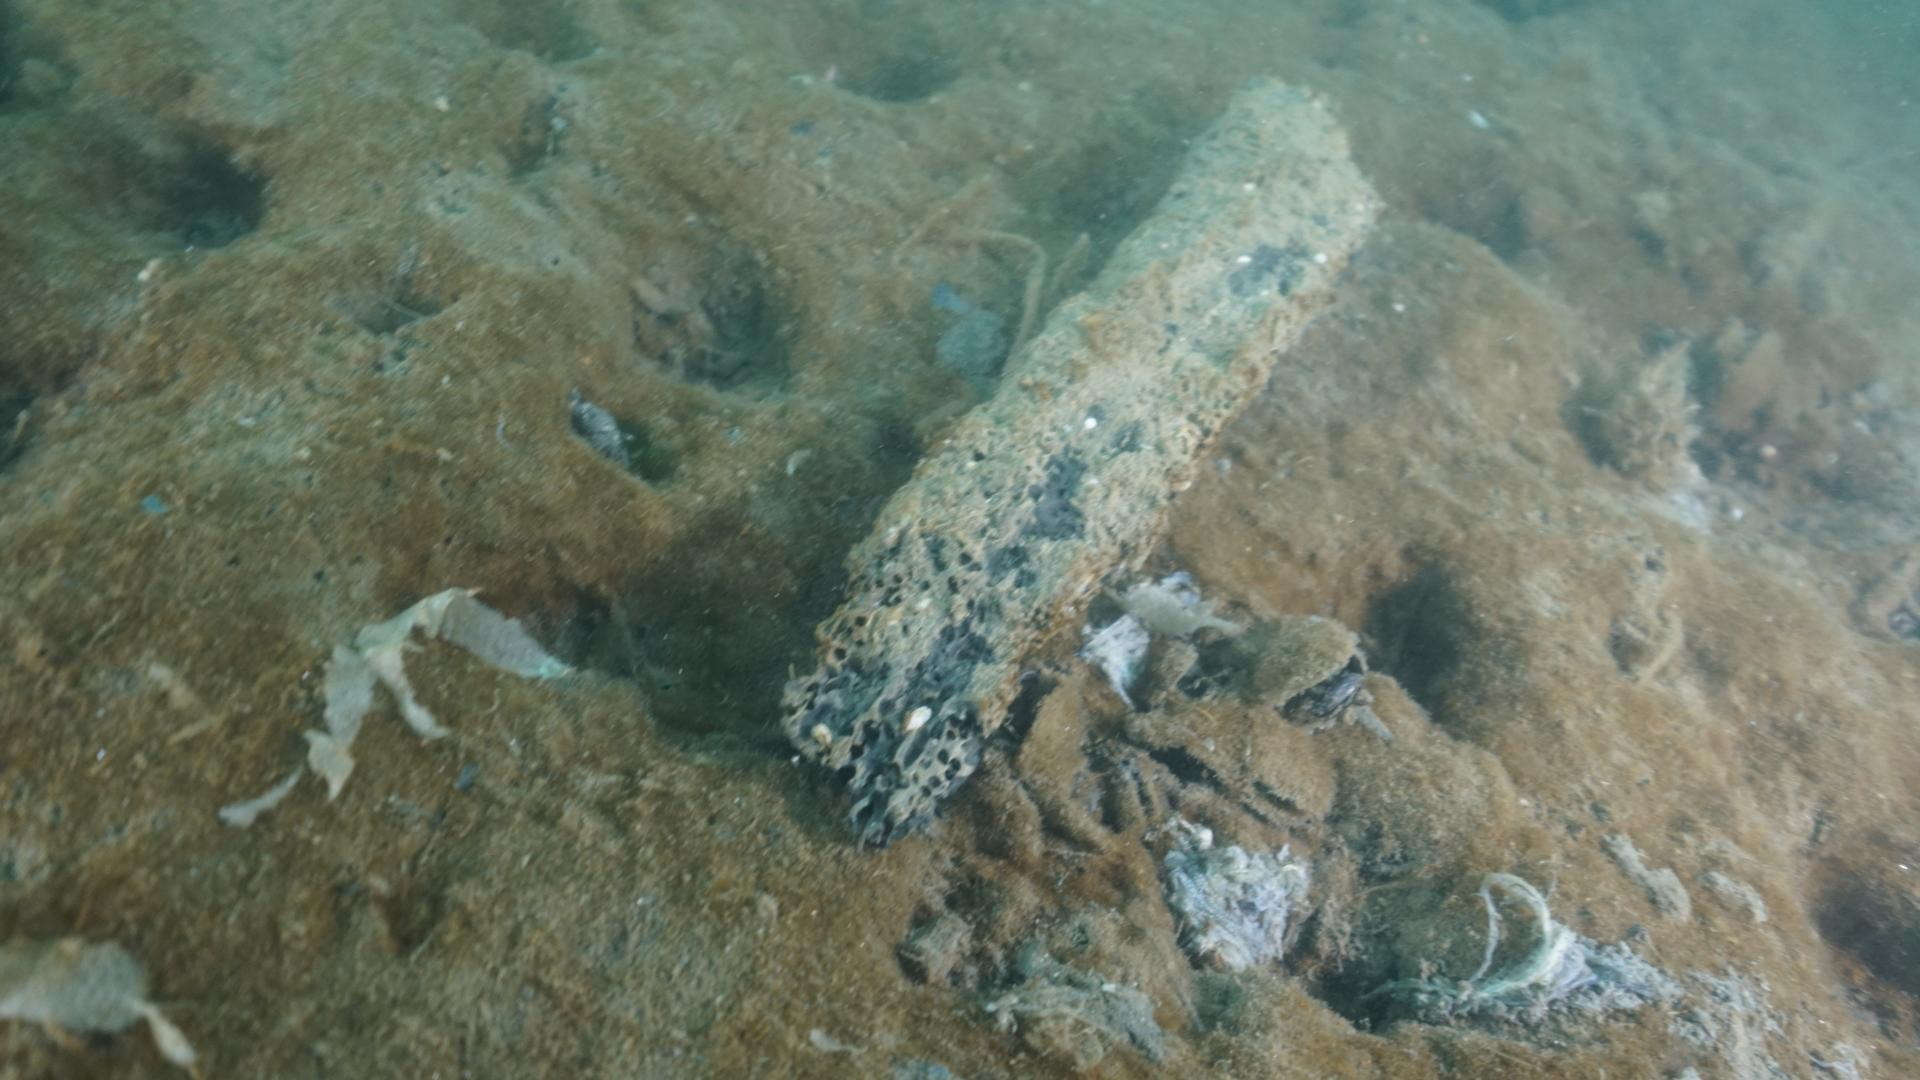wood: (775, 70, 1398, 856)
